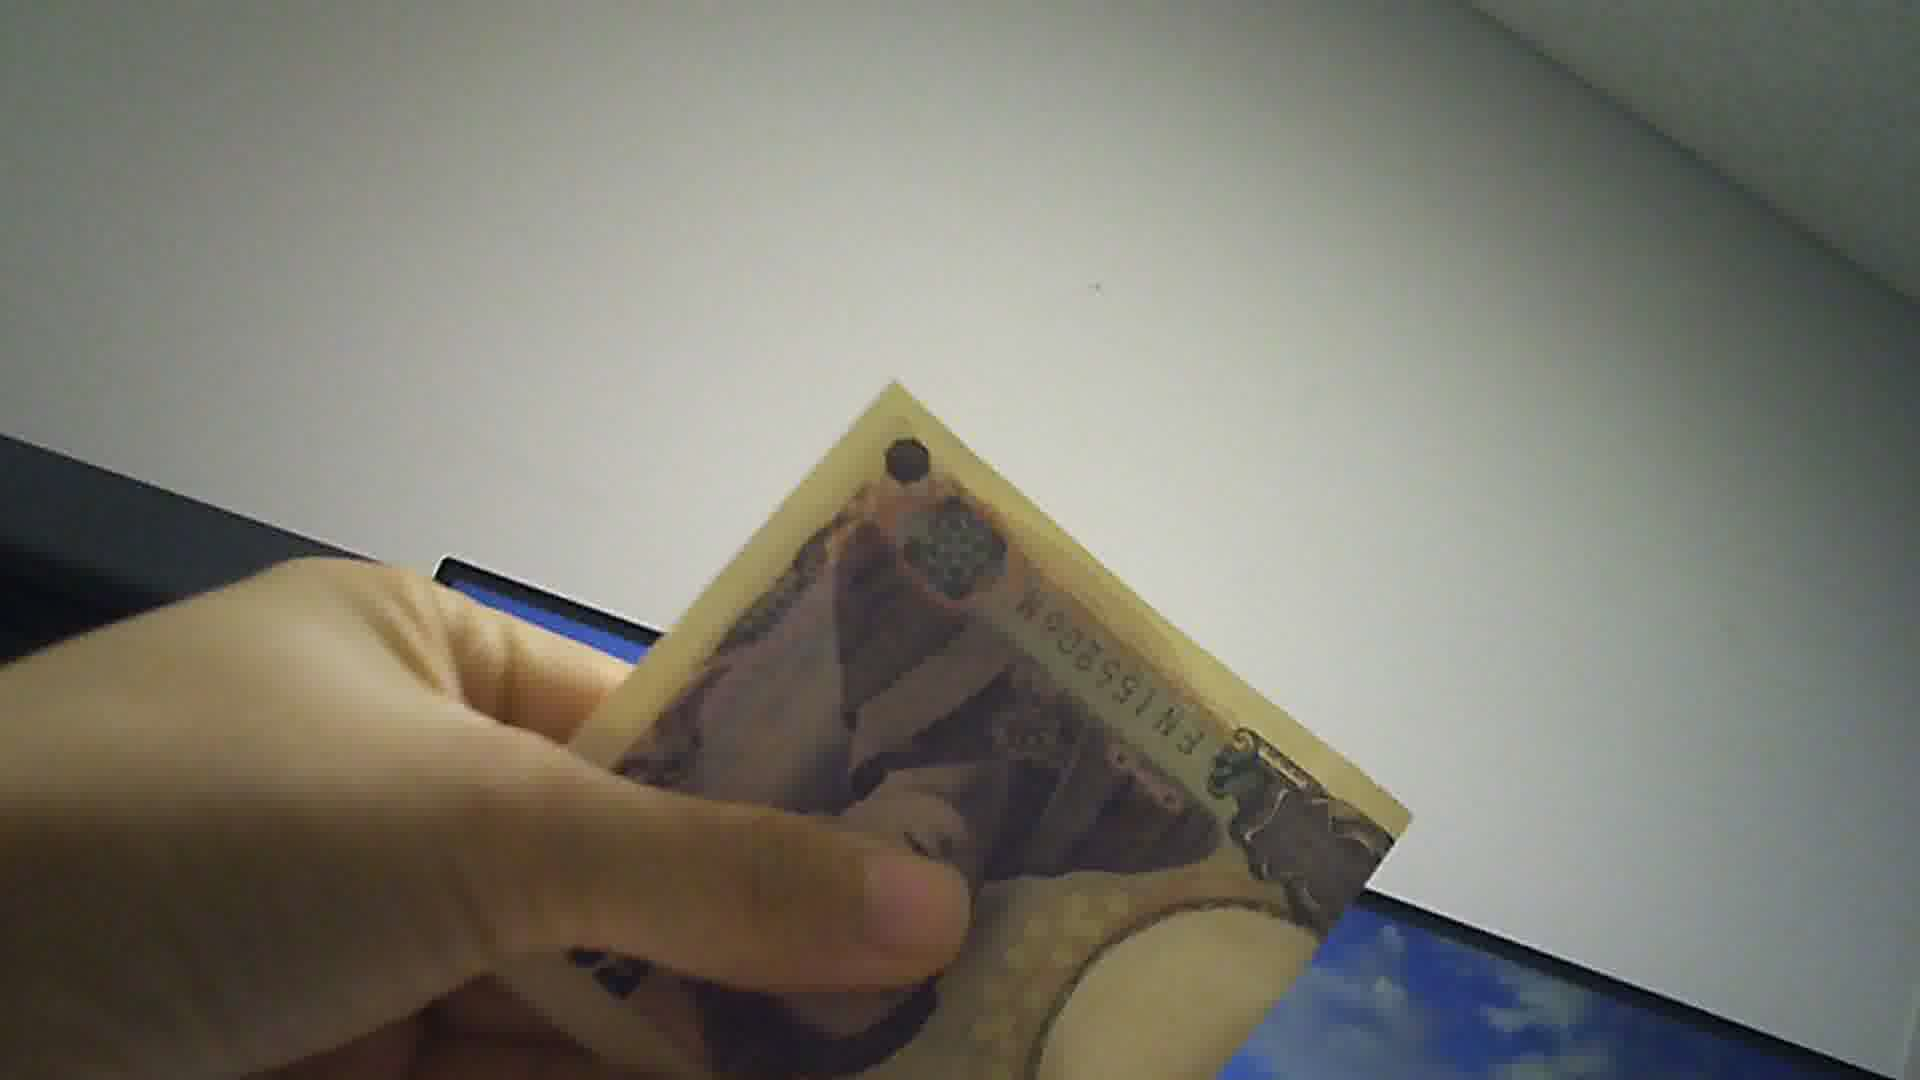5,000 Yen: (469, 375, 1404, 1069)
